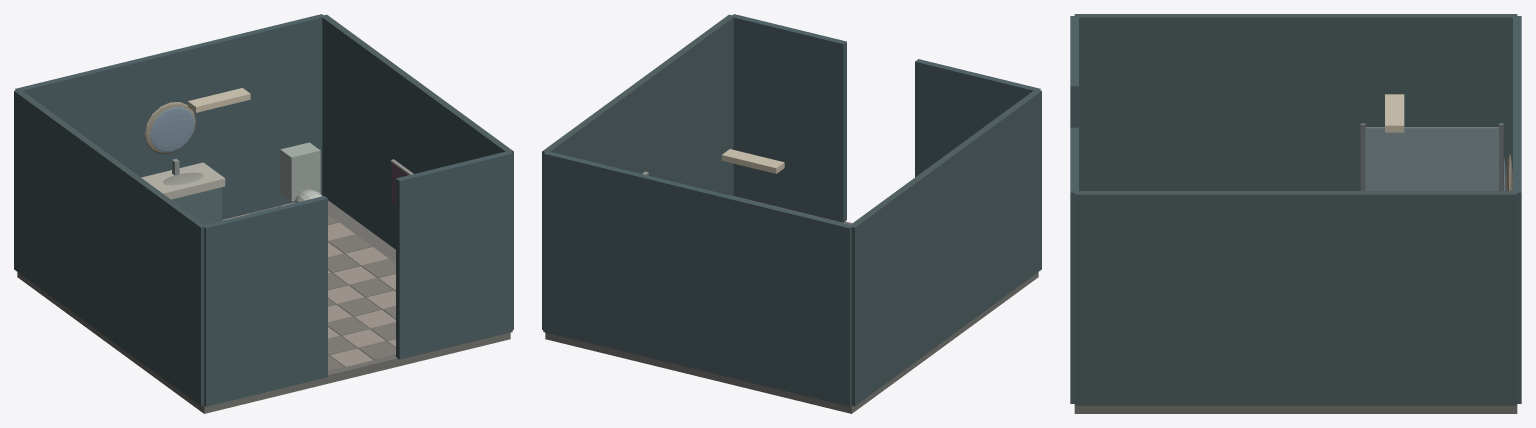
Rendered from bathroom.obj.
The picture shows the model from 3 angles, left to right: view 1: azimuth 30°, elevation 25°; view 2: azimuth 150°, elevation 25°; view 3: azimuth 270°, elevation 25°; orthographic projection. The views are drawn at different scales.
Visible parts, largest first — view 1: bathroom_original_10, bathroom_original_12, bathroom_original_13, bathroom_original_14, bathroom_original_11, bathroom_original_decor_000, bathroom_original_9, bathroom_original_17, bathroom_original_15; view 2: bathroom_original_12, bathroom_original_10, bathroom_original_14, bathroom_original_11, bathroom_original_13, bathroom_original_9, bathroom_original_decor_000; view 3: bathroom_original_11, bathroom_original_10, bathroom_original_decor_010, bathroom_original_9, bathroom_original_12, bathroom_original_decor_000, bathroom_original_14, bathroom_original_13.
Part boxes in pixels (box(x1,y1,x2,y2)): bathroom_original_10: box(14, 89, 206, 406); bathroom_original_12: box(15, 14, 324, 219); bathroom_original_13: box(203, 196, 327, 406); bathroom_original_14: box(396, 151, 512, 359); bathroom_original_11: box(321, 14, 513, 329); bathroom_original_decor_000: box(141, 88, 413, 371); bathroom_original_9: box(17, 200, 510, 413); bathroom_original_17: box(280, 142, 320, 201); bathroom_original_15: box(171, 187, 221, 224); bathroom_original_12: box(543, 151, 852, 406); bathroom_original_10: box(849, 89, 1041, 406); bathroom_original_14: box(732, 14, 846, 222); bathroom_original_11: box(542, 14, 734, 329); bathroom_original_13: box(915, 59, 1040, 177); bathroom_original_9: box(545, 196, 1038, 413); bathroom_original_decor_000: box(544, 149, 850, 405); bathroom_original_11: box(1074, 191, 1517, 405); bathroom_original_10: box(1074, 14, 1517, 190); bathroom_original_decor_010: box(1365, 127, 1498, 190); bathroom_original_9: box(1074, 405, 1517, 413); bathroom_original_12: box(1513, 16, 1521, 403); bathroom_original_decor_000: box(1360, 94, 1521, 402); bathroom_original_14: box(1070, 127, 1078, 403); bathroom_original_13: box(1070, 16, 1078, 127).
Bounding box in the file's own units: 10.82 × 6.18 × 11.42.
